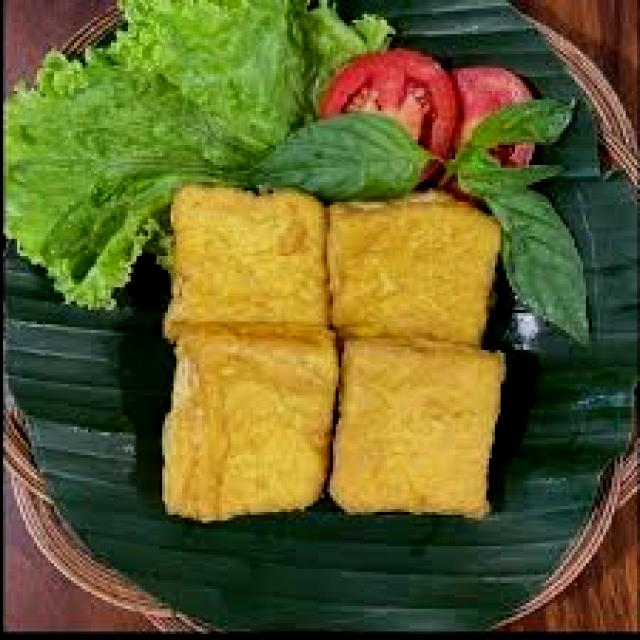tahu goreng: (332, 333, 512, 527), (314, 170, 498, 358), (165, 322, 335, 524), (162, 180, 338, 349)
